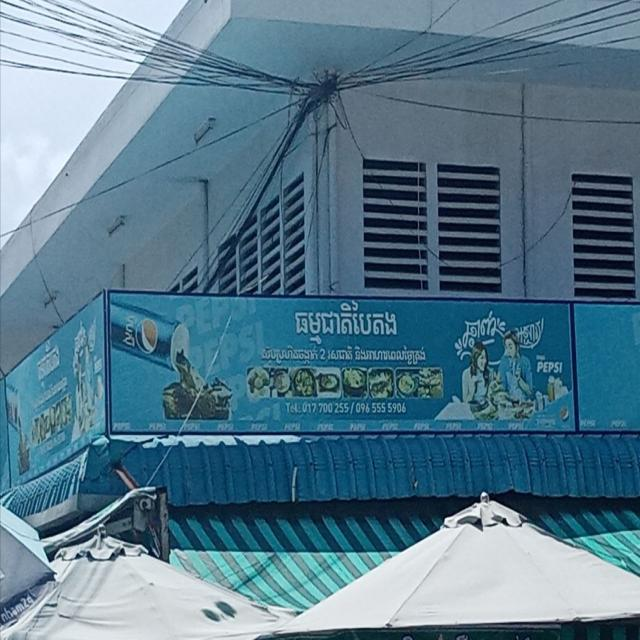Yolov11kh: (285, 300, 411, 346), (448, 295, 512, 366)
